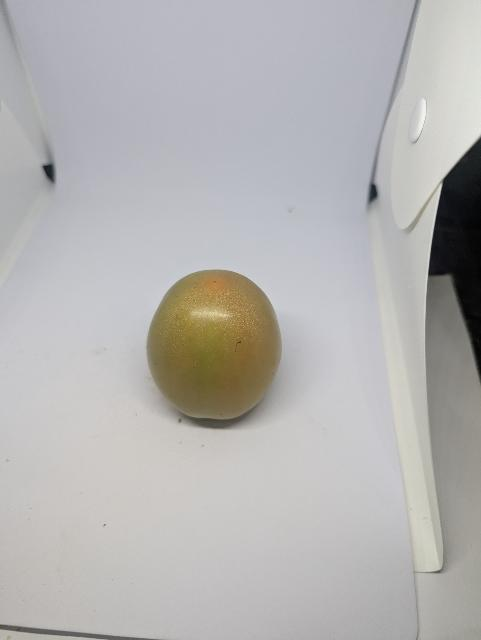breaker: (147, 270, 282, 420)
